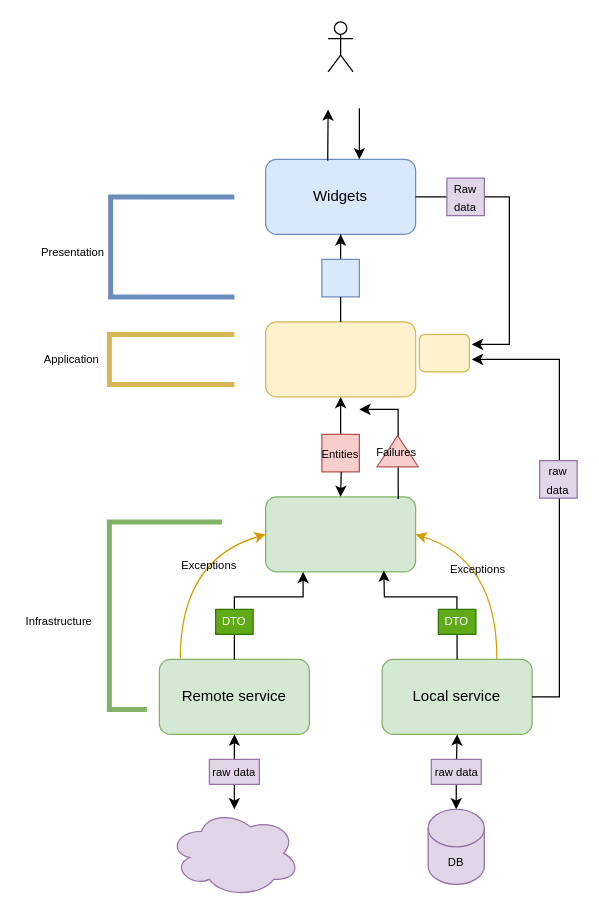
This 599x919 diagram has some shape labels left out. The centre of each missing label's shape, as x and y in pixels:
"API" belongs at pixel 234 852.
"Immutable notifiers" belongs at pixel 340 359.
"methods" belongs at pixel 443 352.
"Repositories" belongs at pixel 340 534.
"states" belongs at pixel 340 277.
"User" belongs at pixel 340 46.
